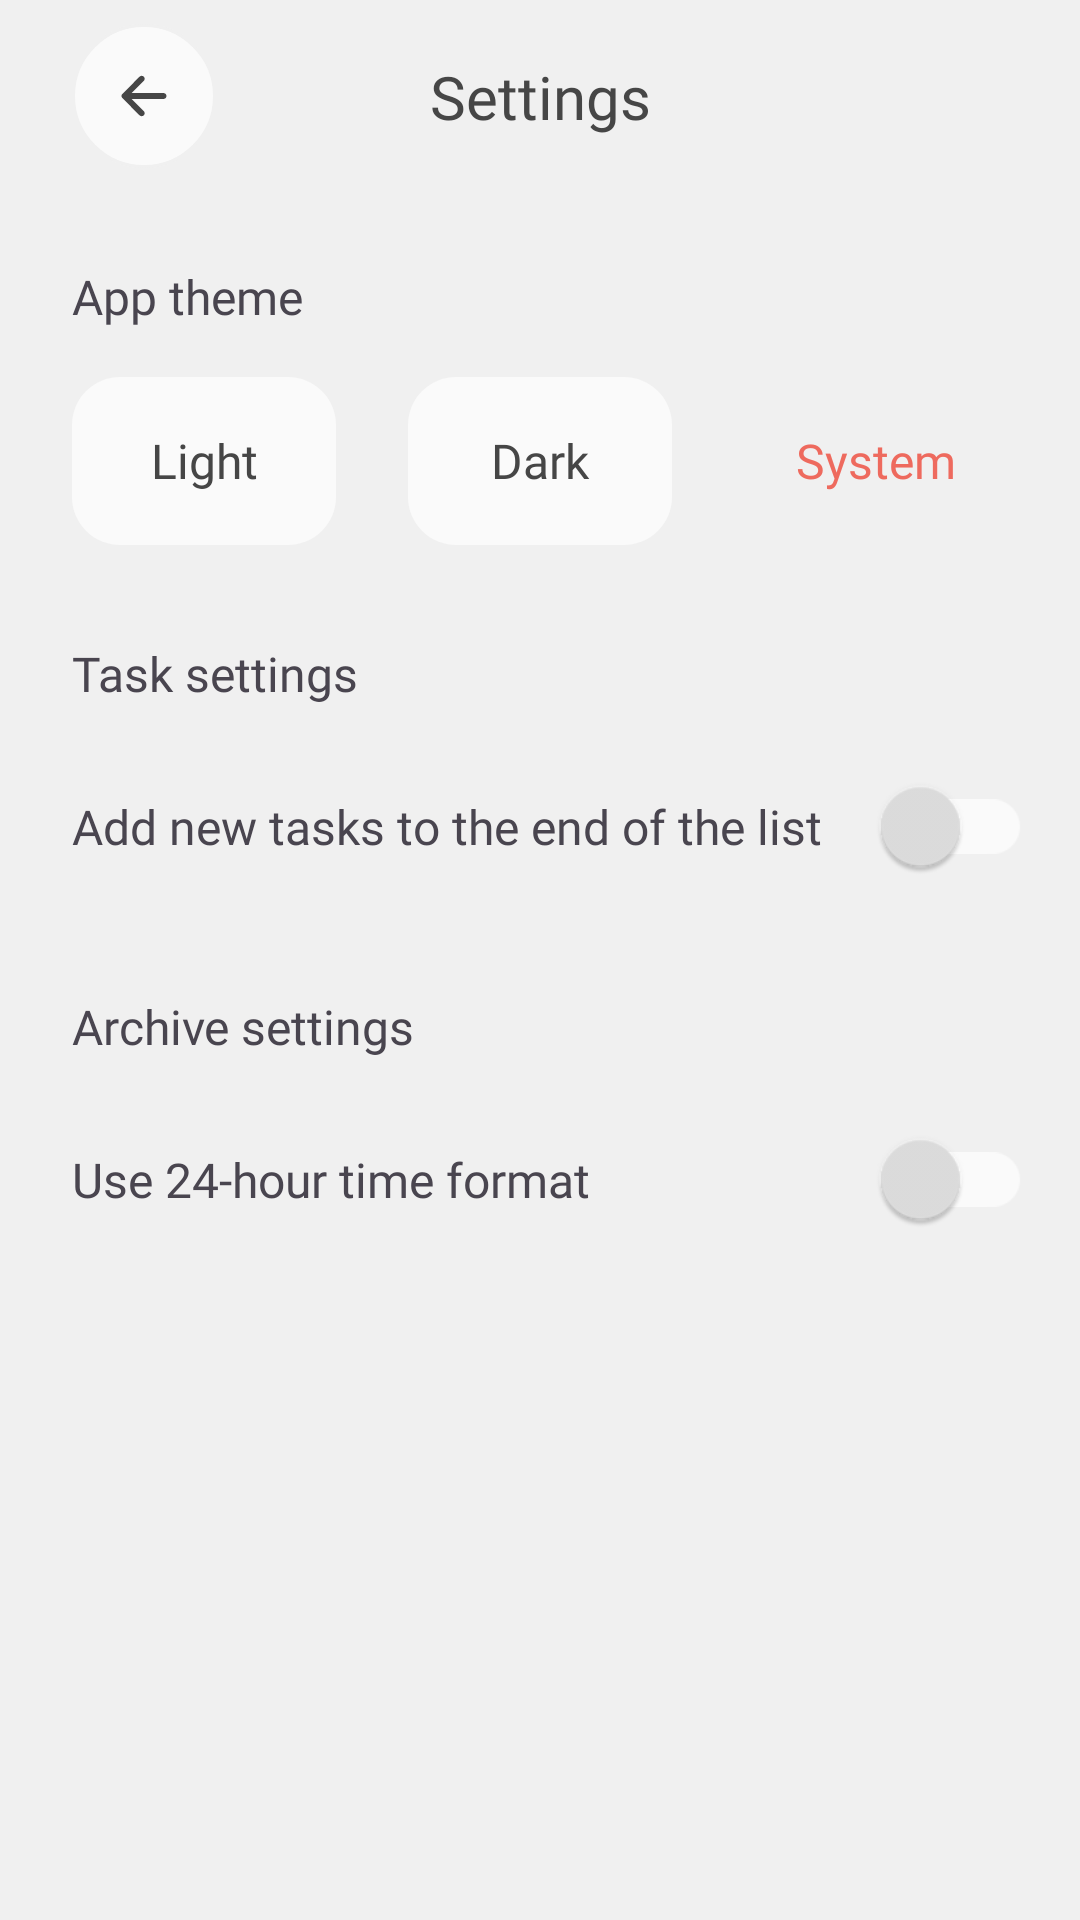

Point at icon controls on the screen. Image size 1080 x 1920, points as point (x, y).
Back: point (144, 96)
